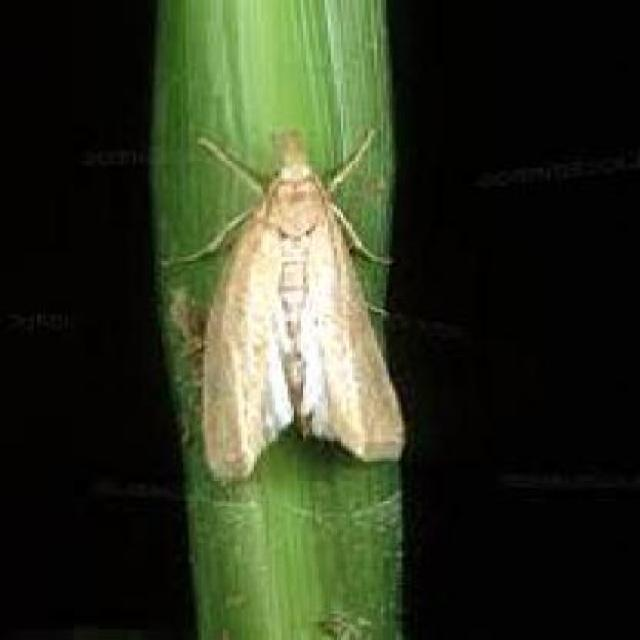stem-borer: (181, 135, 384, 476)
